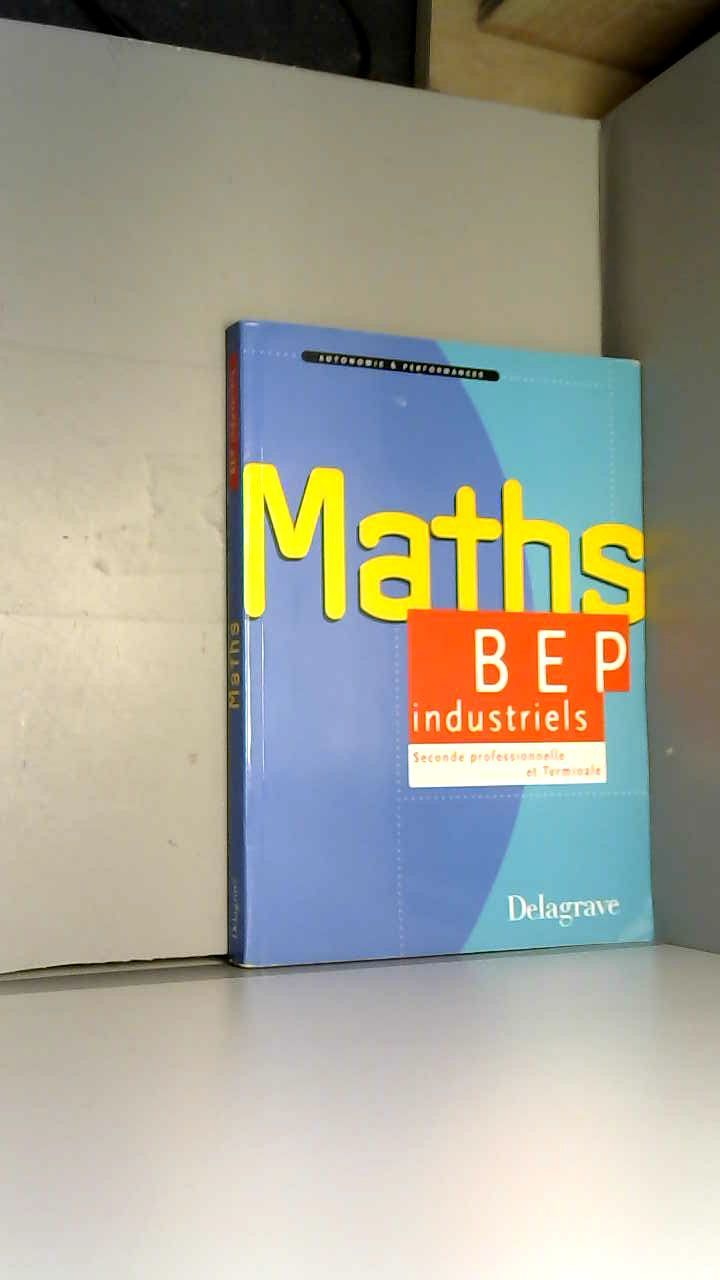book: (186, 272, 689, 1003)
